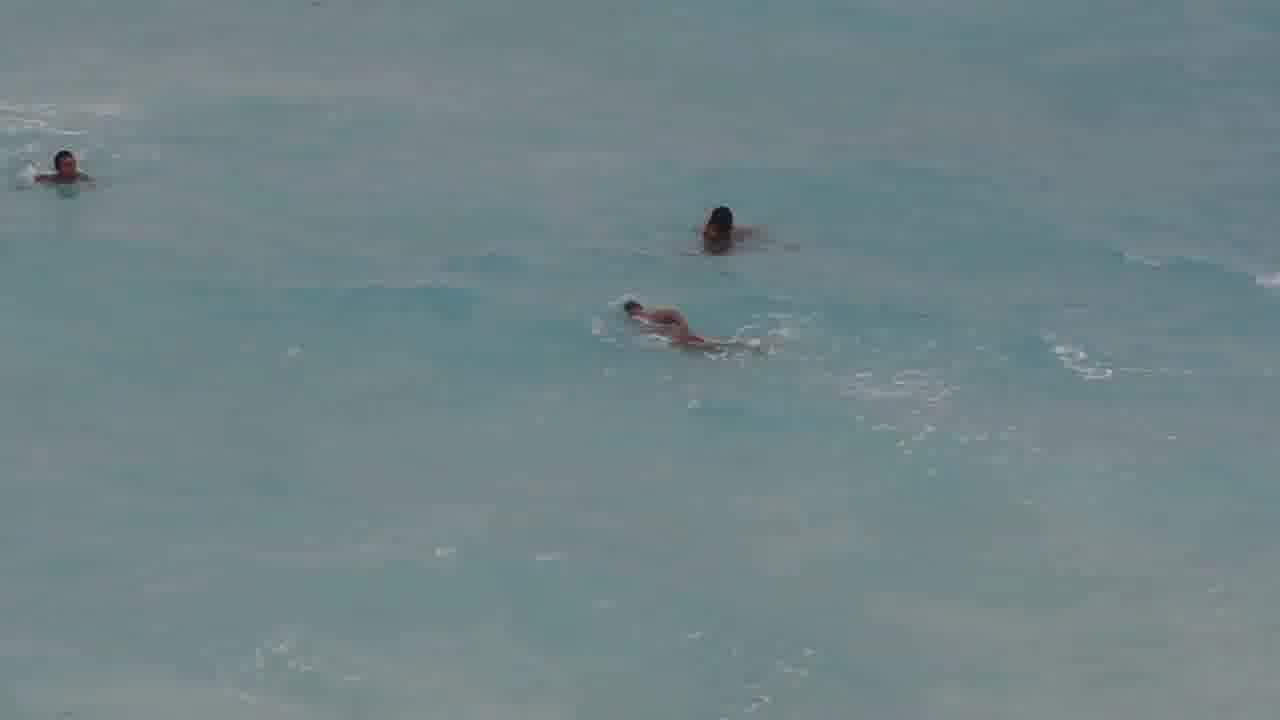swimmer: (613, 290, 764, 355), (683, 197, 765, 255), (22, 147, 105, 190)
